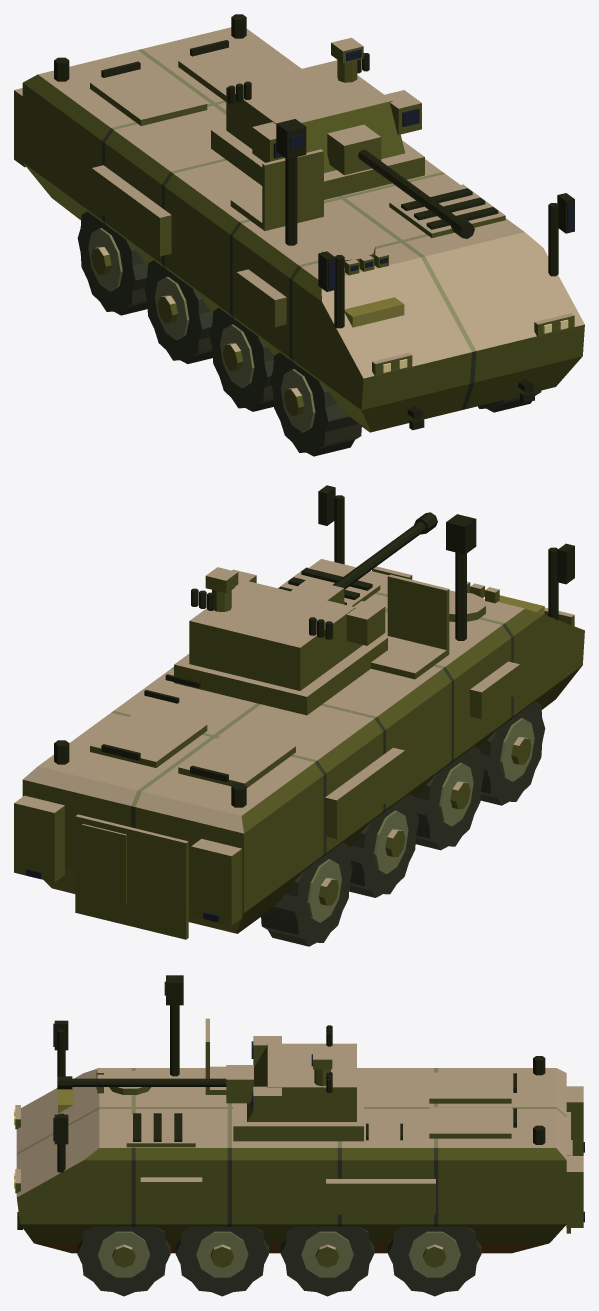
The model's file is SM_VCR_Dragon_v5_LOD0.fbx.
3 views of the same model, one above another, from view 1: azimuth 30°, elevation 25°; view 2: azimuth 150°, elevation 25°; view 3: azimuth 270°, elevation 25° (orthographic). The views are drawn at different scales.
Visible parts, largest first — view 1: SM_VCR_Dragon_v5_LOD0; view 2: SM_VCR_Dragon_v5_LOD0; view 3: SM_VCR_Dragon_v5_LOD0.
Part boxes in pixels (x1,y1,x2,y2): SM_VCR_Dragon_v5_LOD0: [14, 14, 584, 456]; SM_VCR_Dragon_v5_LOD0: [14, 485, 584, 946]; SM_VCR_Dragon_v5_LOD0: [14, 975, 584, 1296].
Bounding box in the file's own units: 3.36 × 3.87 × 8.31.
